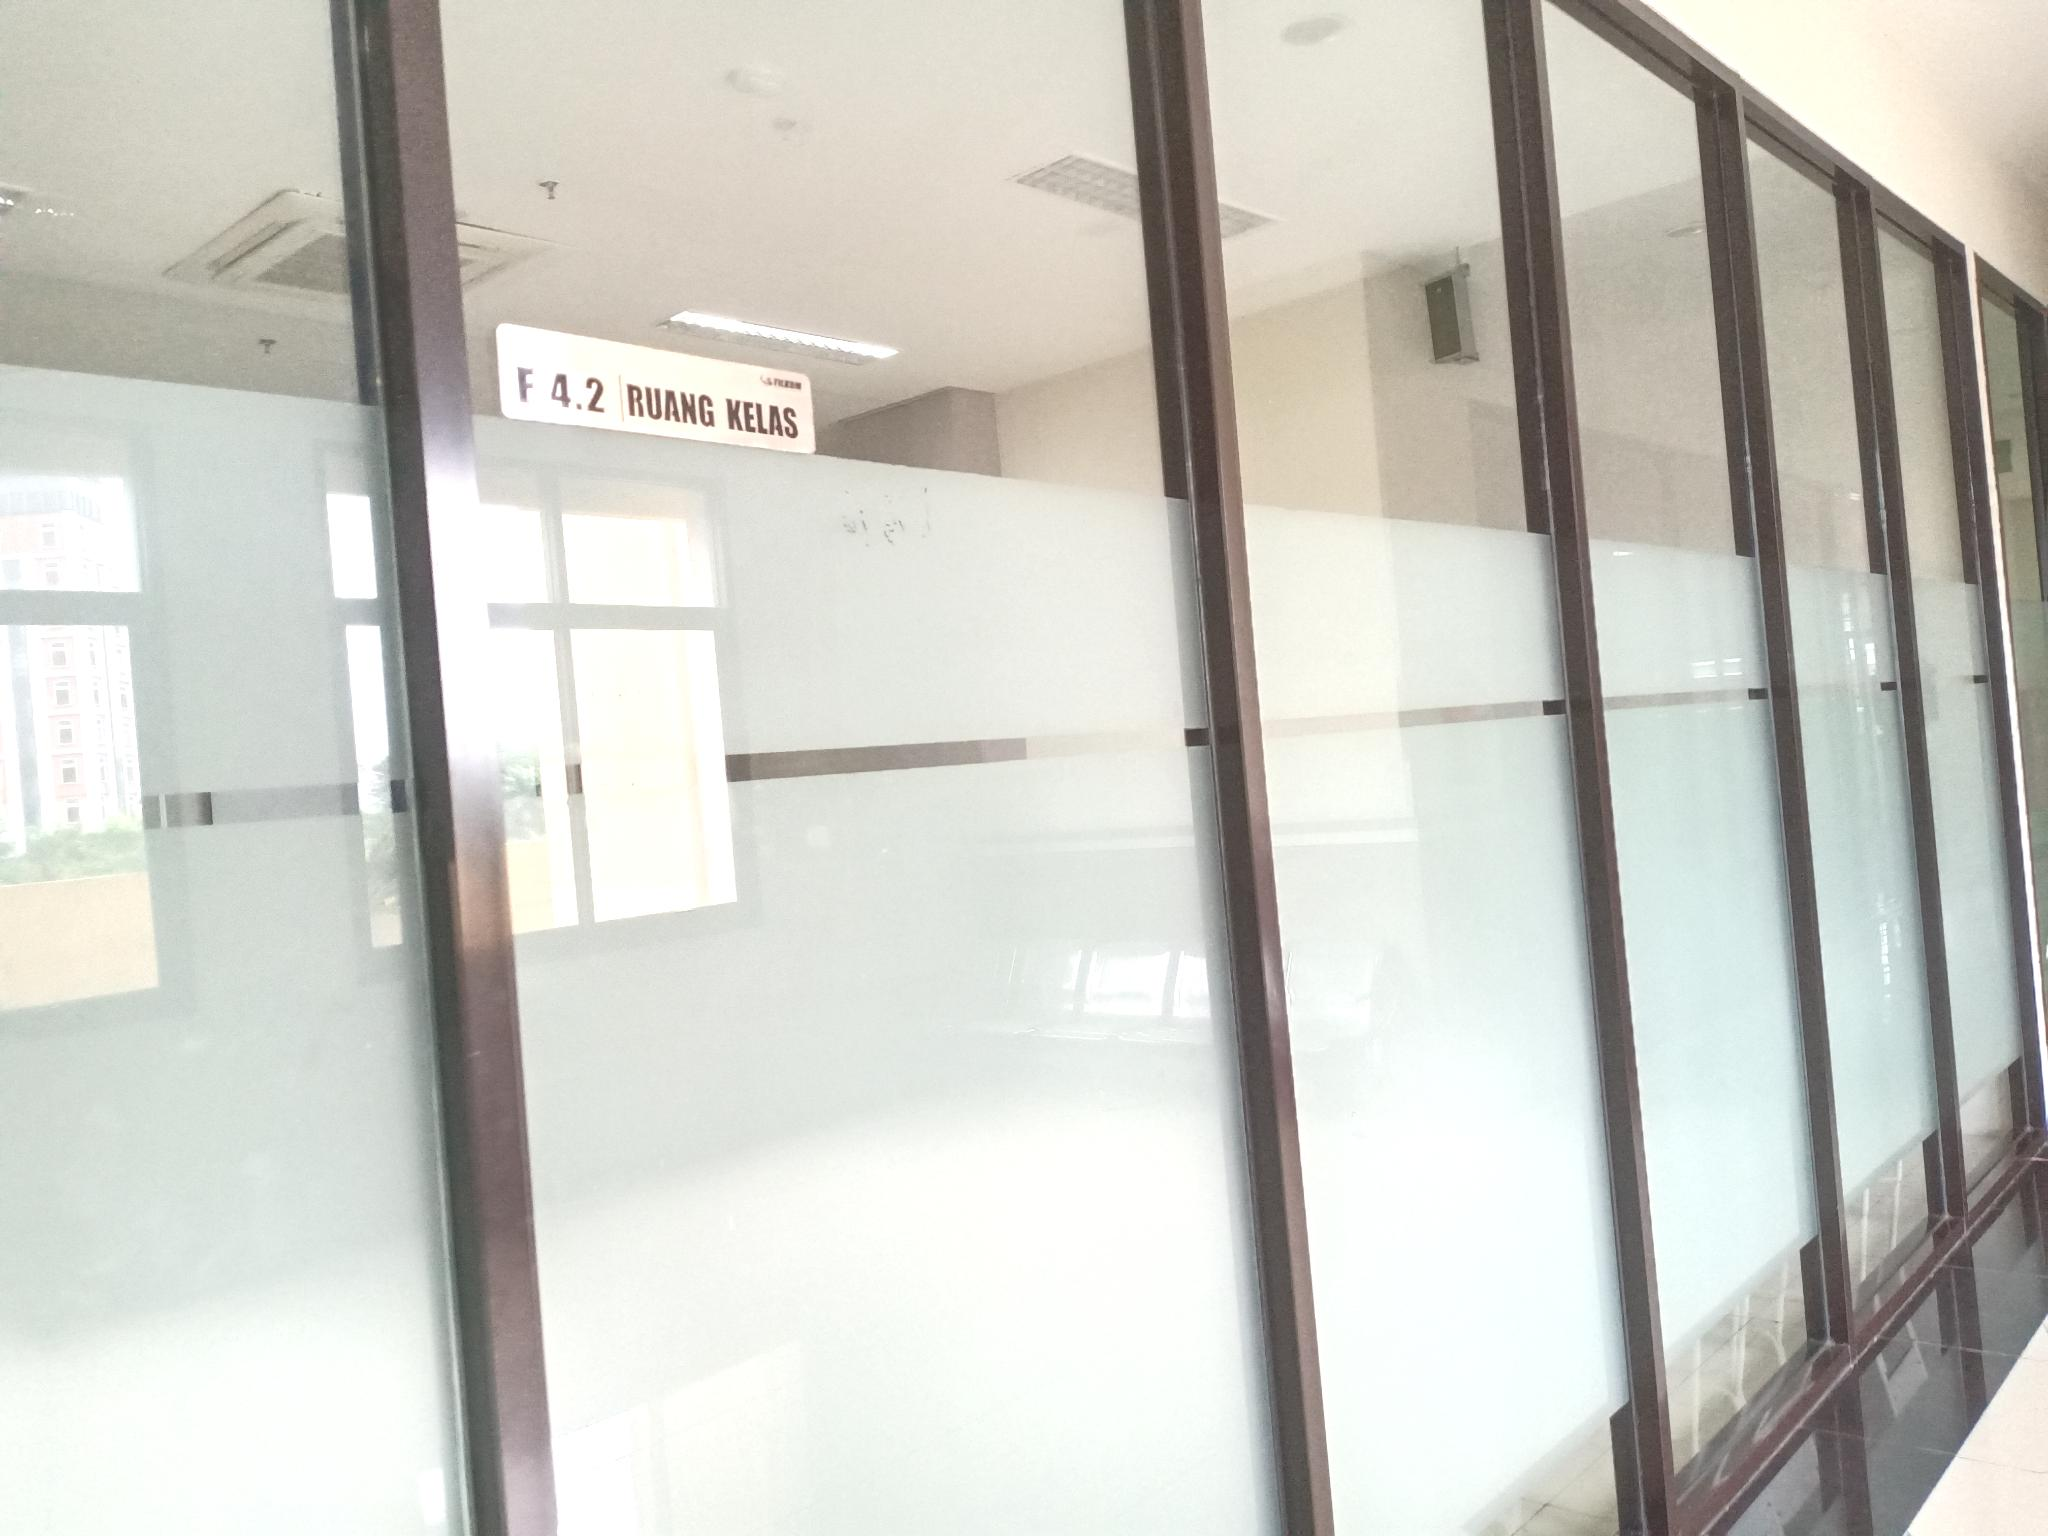plate: (497, 321, 818, 457)
